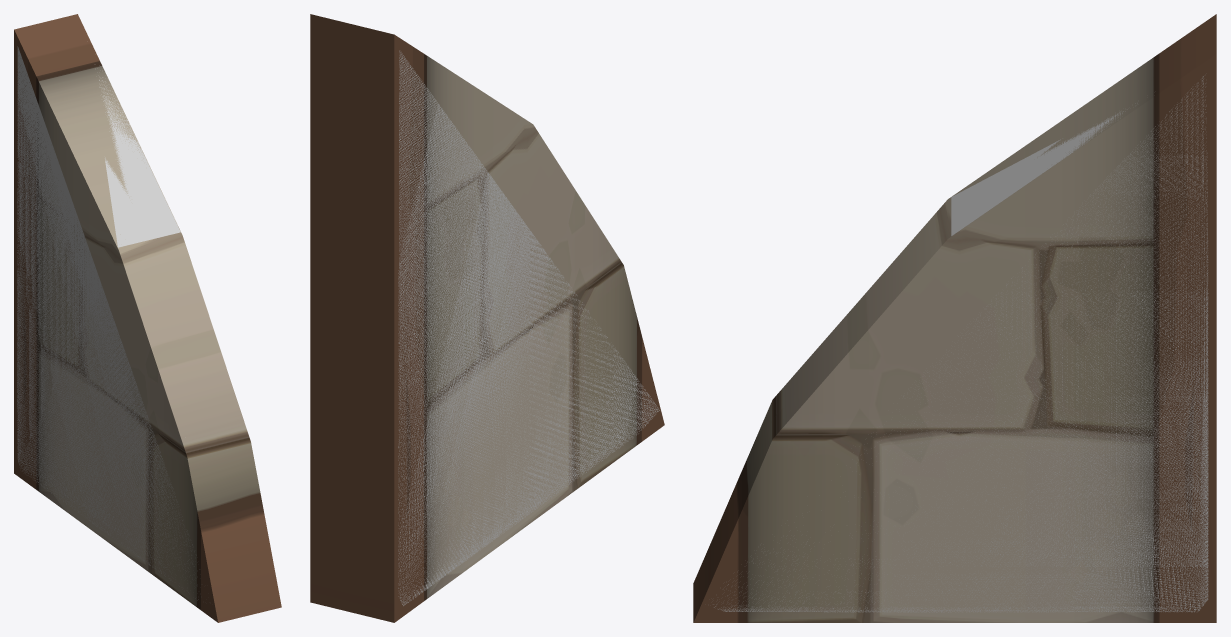
The model's file is SM_Bld_Wall_End_Convex_Small_01.fbx.
The picture shows the model from 3 angles, left to right: view 1: azimuth 30°, elevation 25°; view 2: azimuth 150°, elevation 25°; view 3: azimuth 270°, elevation 25°; orthographic projection. The views are drawn at different scales.
Visible parts, largest first — view 1: SM_Bld_Wall_End_Convex_Small_01, SM_Bld_Wall_End_Convex_Small_01_ConvexHulls; view 2: SM_Bld_Wall_End_Convex_Small_01, SM_Bld_Wall_End_Convex_Small_01_ConvexHulls; view 3: SM_Bld_Wall_End_Convex_Small_01, SM_Bld_Wall_End_Convex_Small_01_ConvexHulls.
Boxes of the visible parts, bbox=[...] form: SM_Bld_Wall_End_Convex_Small_01: bbox=[14, 14, 281, 622]; SM_Bld_Wall_End_Convex_Small_01_ConvexHulls: bbox=[17, 46, 199, 600]; SM_Bld_Wall_End_Convex_Small_01: bbox=[310, 14, 664, 622]; SM_Bld_Wall_End_Convex_Small_01_ConvexHulls: bbox=[398, 50, 659, 605]; SM_Bld_Wall_End_Convex_Small_01: bbox=[693, 14, 1216, 622]; SM_Bld_Wall_End_Convex_Small_01_ConvexHulls: bbox=[713, 76, 1208, 612].
Bounding box in the file's own units: 22.5 × 125 × 150.
2 materials, 1 textured.
